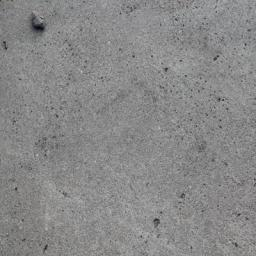FOD: (24, 6, 51, 35)
